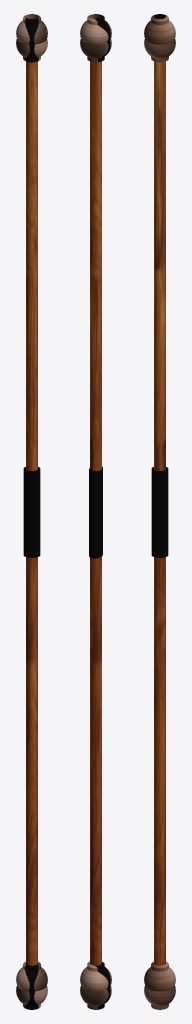
Rendered from STAFF.glb.
3 renders of one model, left to right at view 1: azimuth 90°, elevation 25°; view 2: azimuth 150°, elevation 25°; view 3: azimuth 270°, elevation 25°, orthographic.
Visible parts, largest first — view 1: Cylinder, Cylinder.001, Sphere.001, Sphere.004, Sphere.003, Sphere.002; view 2: Cylinder, Cylinder.001, Sphere.001, Sphere.004, Sphere.003, Sphere.002; view 3: Cylinder, Cylinder.001, Sphere.001, Sphere.004, Sphere.003, Sphere.002.
Boxes of the visible parts, x1,y1,x2,y2 form: Cylinder: (26, 61, 37, 965); Cylinder.001: (23, 467, 40, 557); Sphere.001: (16, 14, 47, 44); Sphere.004: (16, 962, 47, 991); Sphere.003: (16, 985, 47, 1009); Sphere.002: (16, 39, 47, 62); Cylinder: (90, 61, 101, 965); Cylinder.001: (89, 466, 102, 558); Sphere.001: (80, 14, 111, 44); Sphere.004: (80, 962, 111, 991); Sphere.003: (80, 985, 111, 1009); Sphere.002: (80, 39, 111, 62); Cylinder: (154, 61, 165, 965); Cylinder.001: (151, 467, 168, 557); Sphere.001: (144, 14, 175, 44); Sphere.004: (144, 962, 175, 991); Sphere.003: (144, 985, 175, 1009); Sphere.002: (144, 39, 175, 62).
Bounding box in the file's own units: 5.42 × 186 × 5.42.
Materials: 6 (5 with a texture image).
